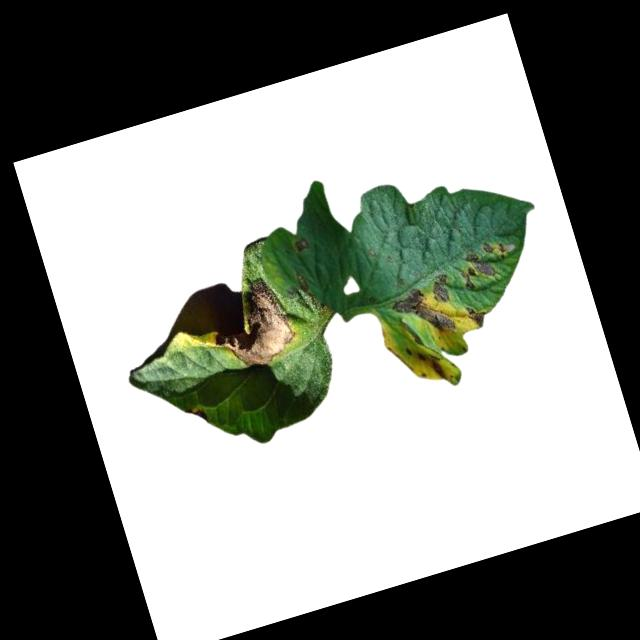Early_blight: (200, 273, 301, 376), (389, 280, 456, 344), (454, 236, 516, 293), (403, 337, 450, 389), (427, 271, 457, 309), (464, 303, 489, 330), (290, 236, 312, 254)
